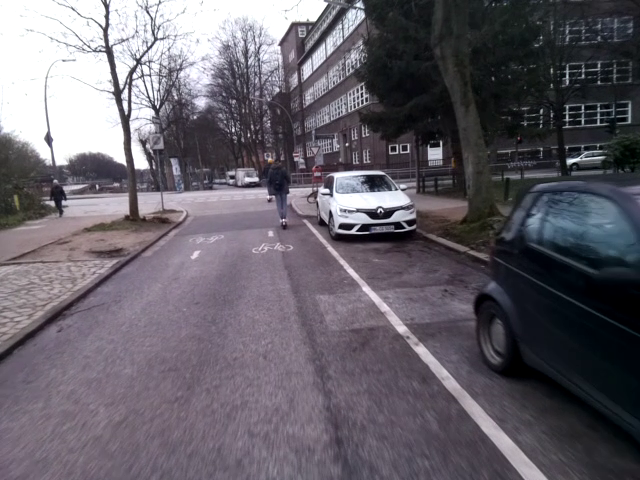car: (314, 167, 420, 248)
